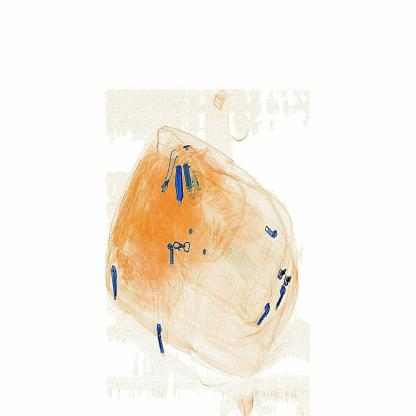knife: (168, 157, 192, 213)
